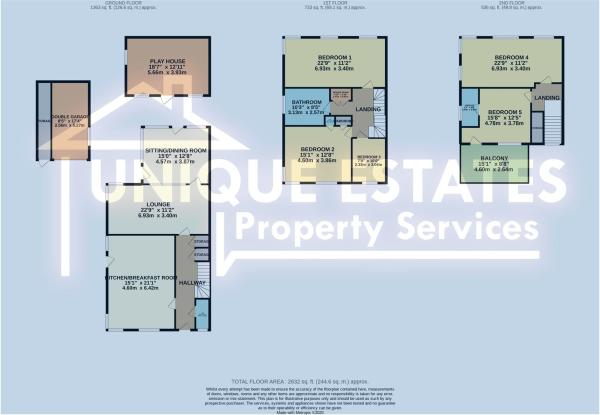GrossArea: (230, 375, 368, 386)
